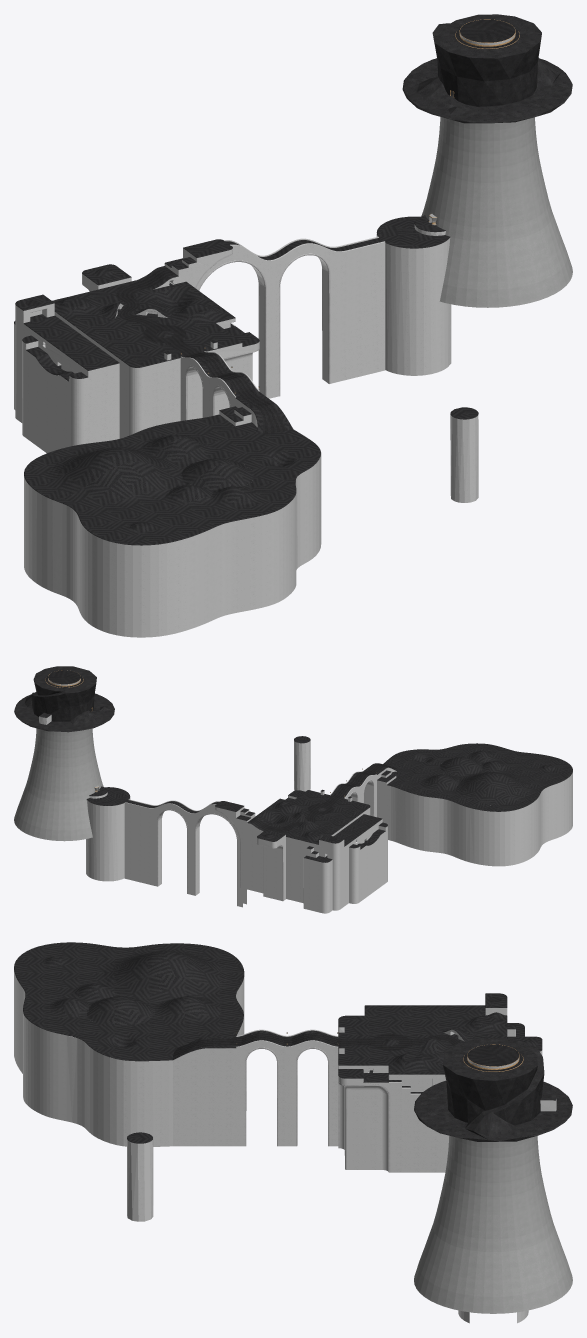
Rendered from CapWorldGround000.dae.
The picture shows the model from 3 angles, top to bottom: view 1: azimuth 30°, elevation 25°; view 2: azimuth 150°, elevation 25°; view 3: azimuth 270°, elevation 25°; orthographic projection. The views are drawn at different scales.
Parts seen in each view (by area): view 1: CapWorldGround000 (×14); view 2: CapWorldGround000 (×15); view 3: CapWorldGround000 (×13).
Boxes of the visible parts, bbox=[...] form: CapWorldGround000 (×14): bbox=[14, 14, 572, 637]; CapWorldGround000 (×15): bbox=[14, 666, 572, 913]; CapWorldGround000 (×13): bbox=[14, 942, 572, 1323].
Size of the model in its own units: 34275 by 14617 by 25466.
